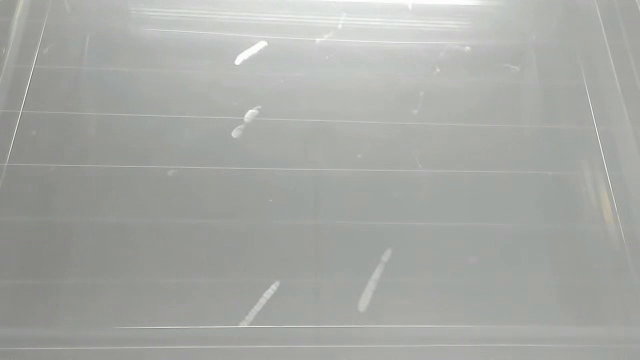alpha: (355, 245, 395, 318), (234, 279, 286, 330), (226, 100, 267, 143), (229, 36, 276, 70)
